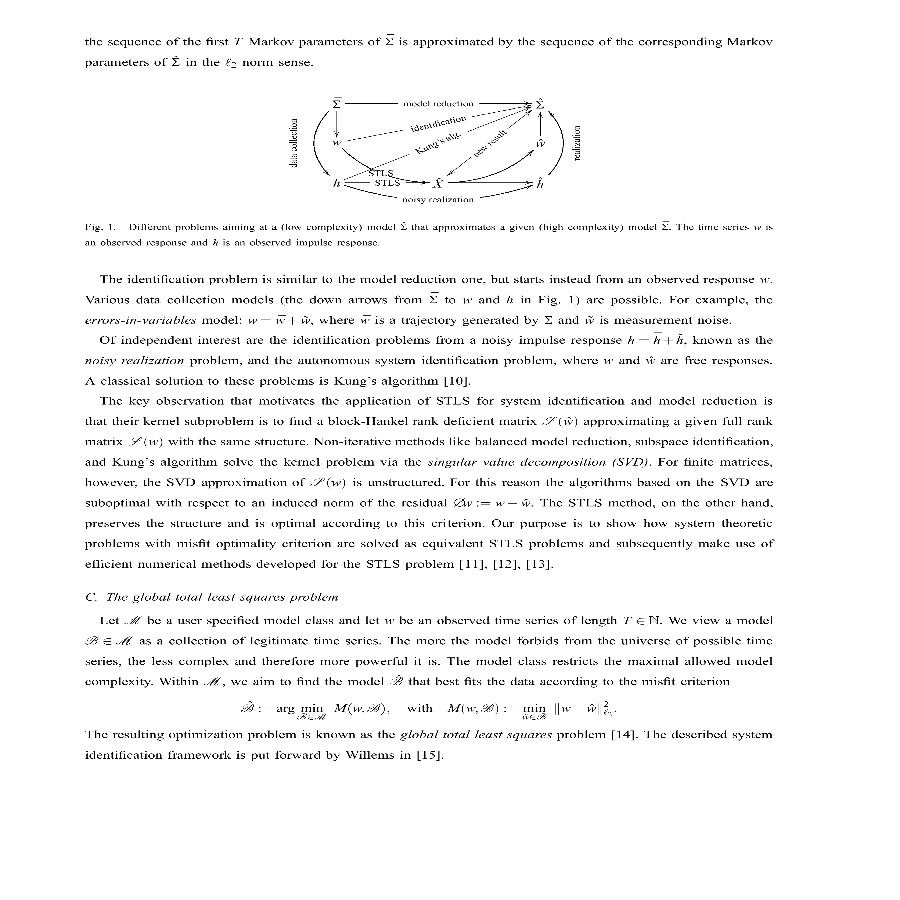eq: (445, 698, 612, 722), (238, 695, 399, 719)
